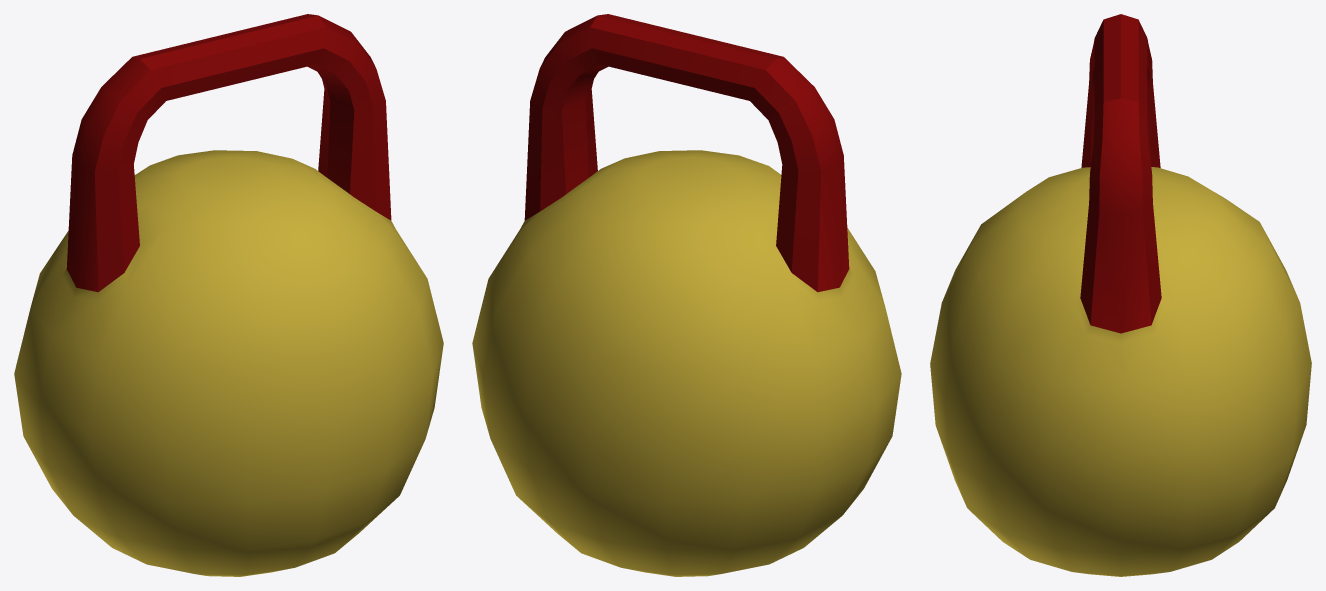
Rendered from Weight.FBX.
3 views of the same model, side by side, from view 1: azimuth 30°, elevation 25°; view 2: azimuth 150°, elevation 25°; view 3: azimuth 270°, elevation 25° (orthographic). The views are drawn at different scales.
Visible parts, largest first — view 1: Weight; view 2: Weight; view 3: Weight.
Part boxes in pixels (left/top/right/bottom): Weight: left=14, top=14, right=443, bottom=576; Weight: left=472, top=14, right=901, bottom=576; Weight: left=930, top=14, right=1311, bottom=576.
Bounding box in the file's own units: 794 × 715 × 1006.
